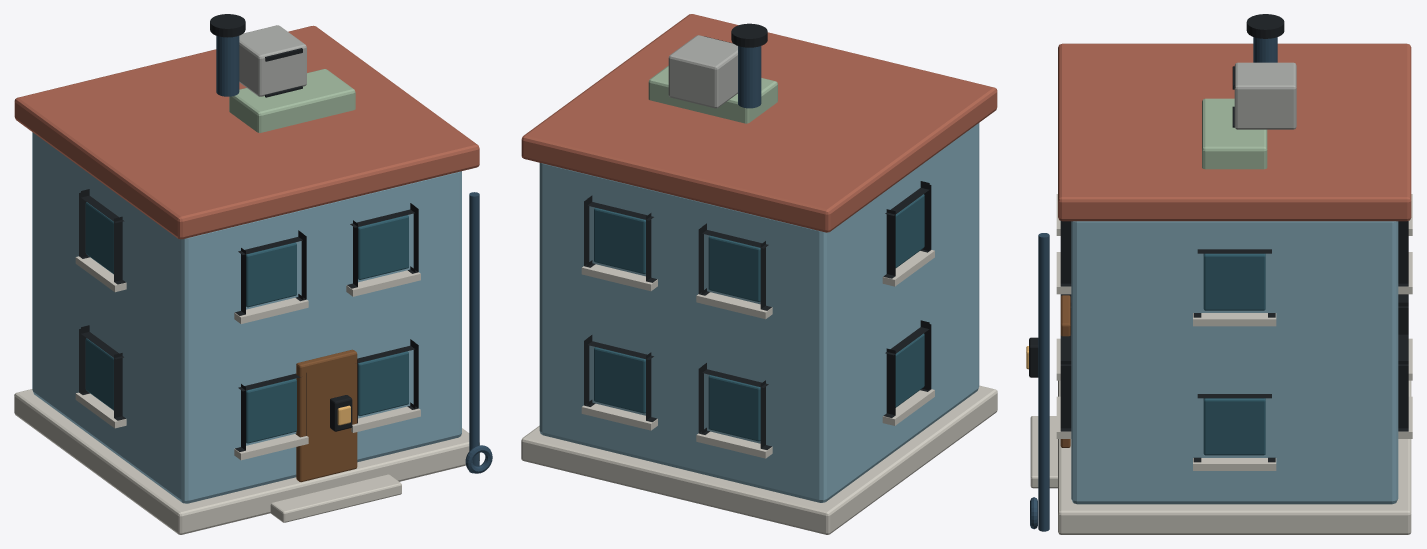
File: RES_LOW_1x1_004.glb
The picture shows the model from 3 angles, left to right: view 1: azimuth 30°, elevation 25°; view 2: azimuth 150°, elevation 25°; view 3: azimuth 270°, elevation 25°; orthographic projection. The views are drawn at different scales.
Visible parts, largest first — view 1: RES_LOW_1x1_004_Visual; view 2: RES_LOW_1x1_004_Visual; view 3: RES_LOW_1x1_004_Visual.
Boxes of the visible parts, x1,y1,x2,y2 form: RES_LOW_1x1_004_Visual: (14,14,492,534); RES_LOW_1x1_004_Visual: (521,14,997,534); RES_LOW_1x1_004_Visual: (1026,14,1412,534).
Size of what is drawn, in the model's own units: 1.68 by 2.16 by 1.74.
